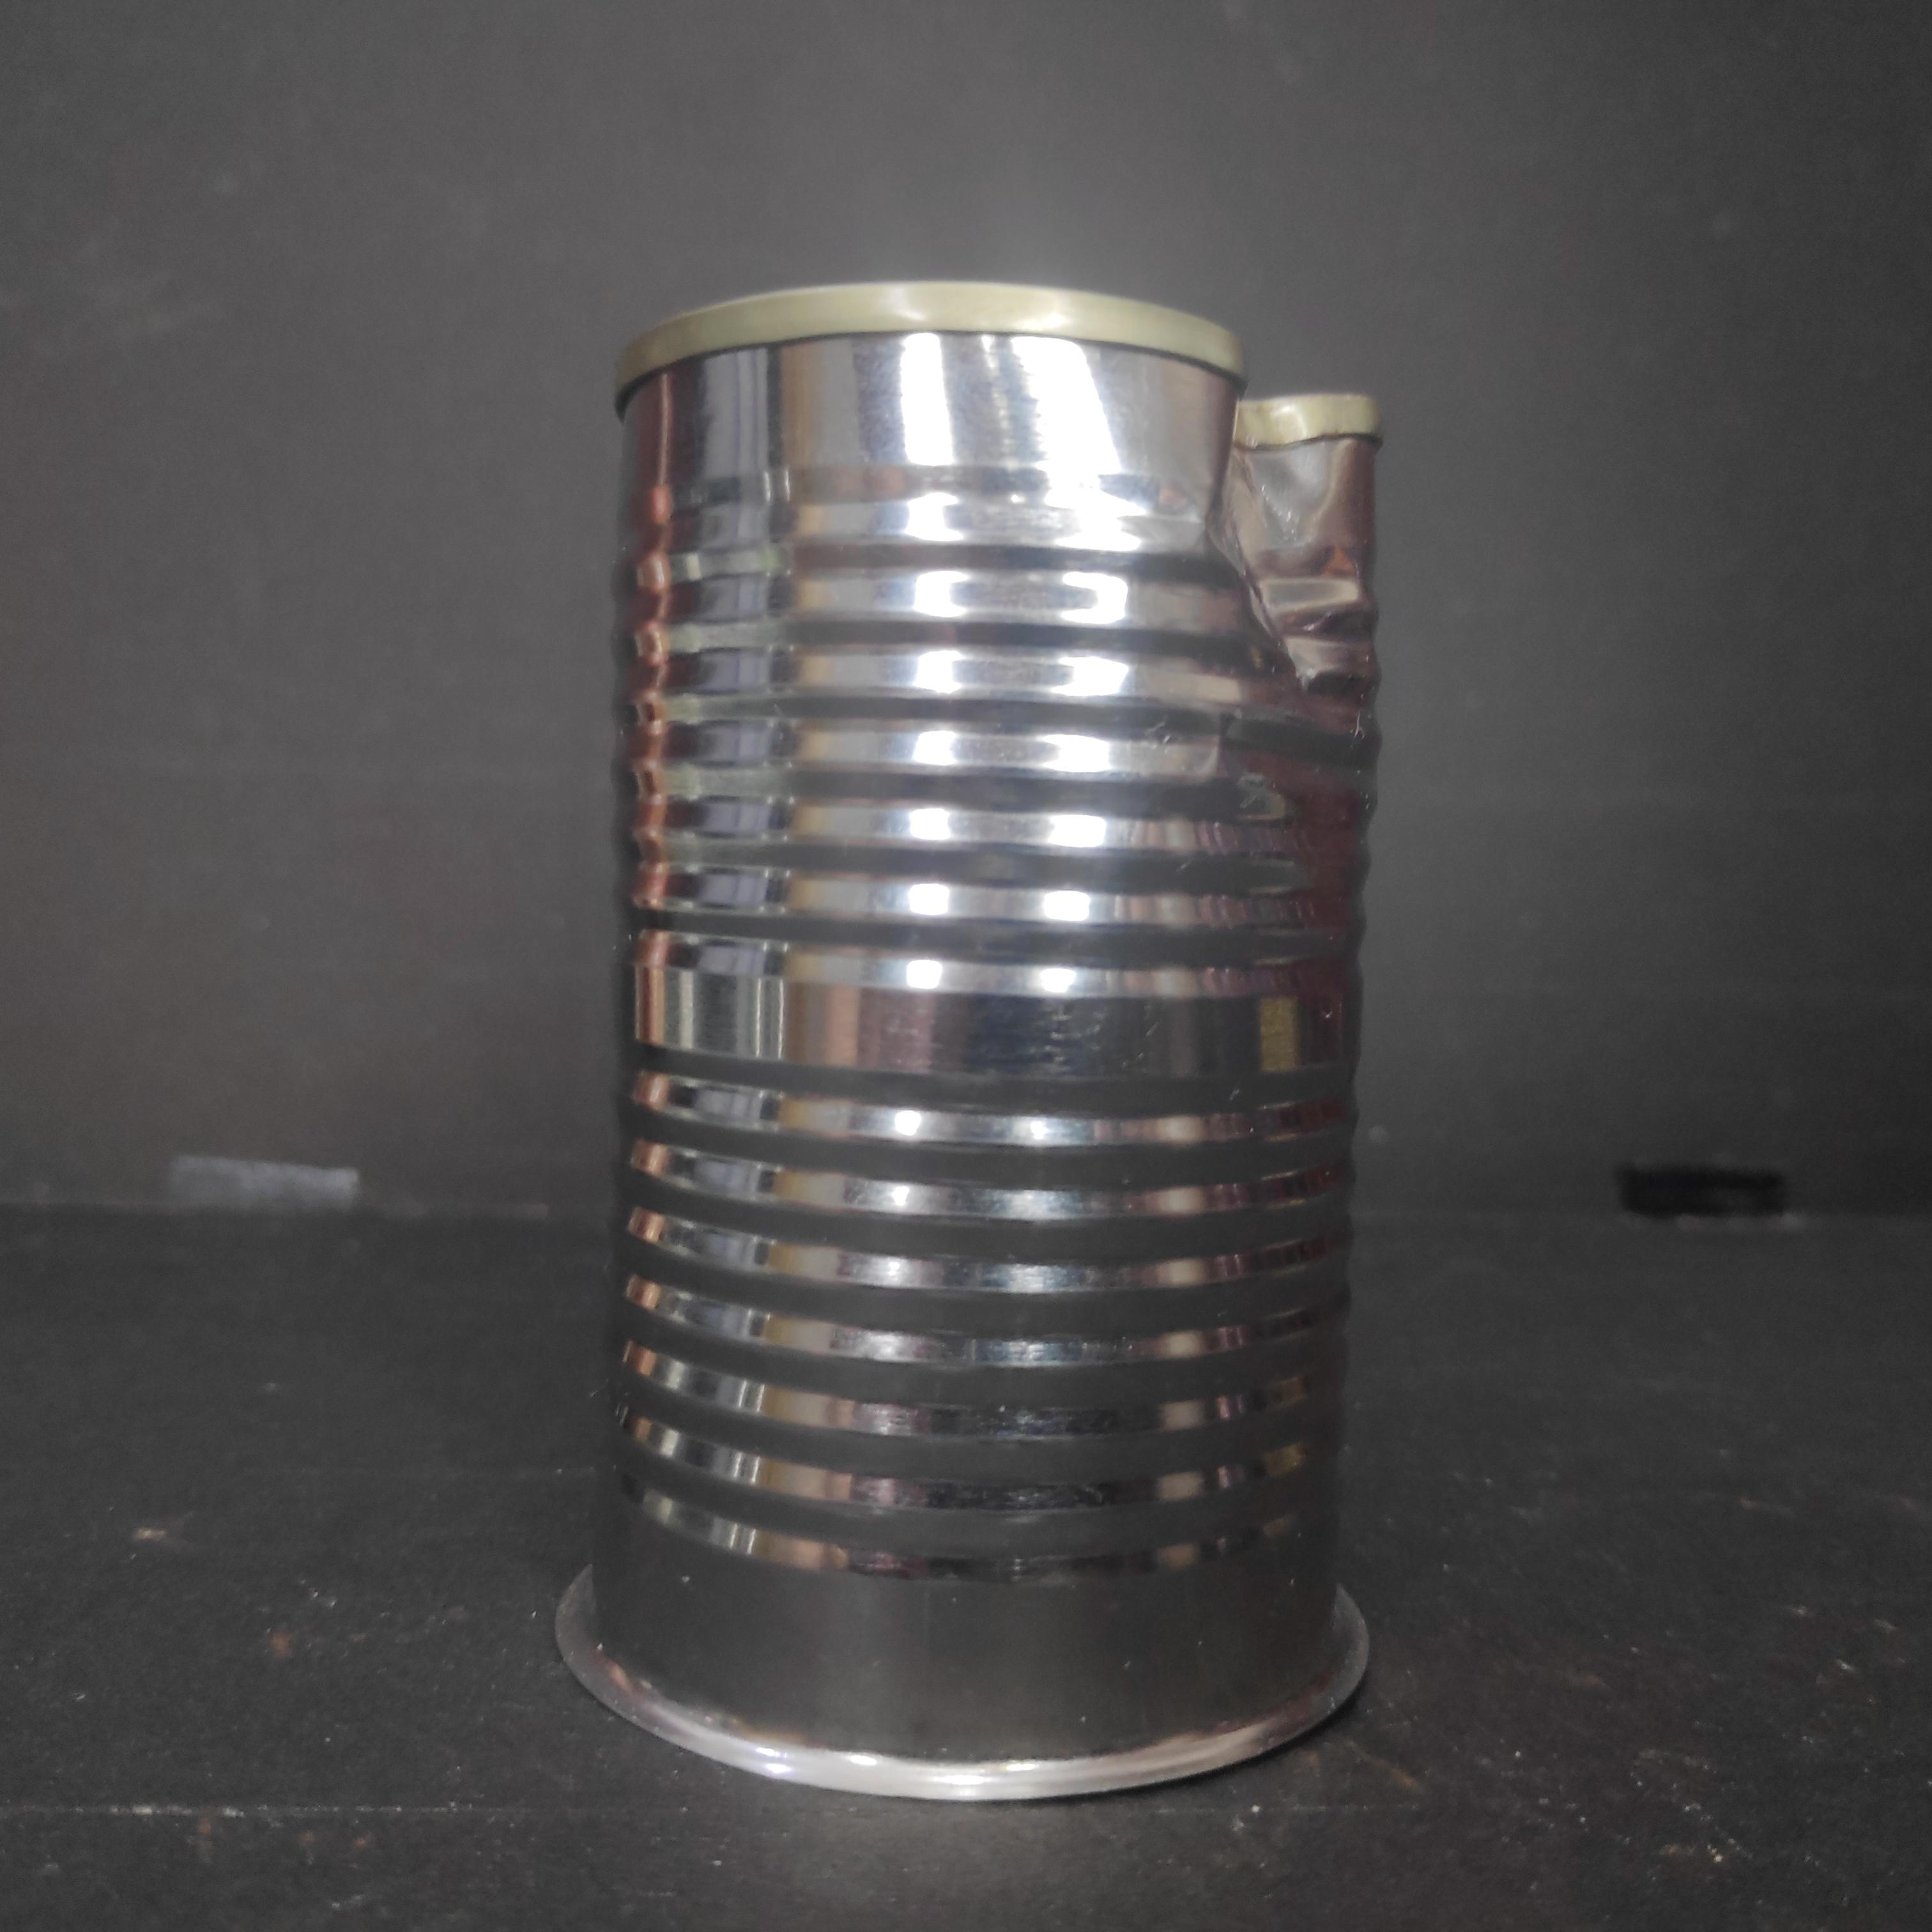Critical Defect: (554, 265, 1389, 1808)
